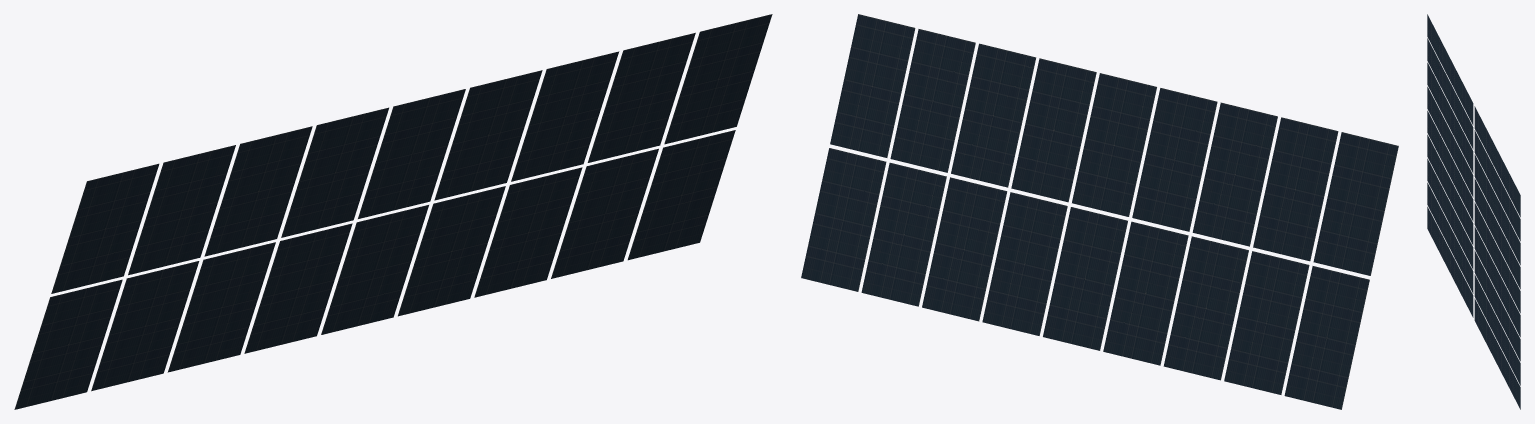
Rendered from half_table_glass.obj.
3 renders of one model, left to right at view 1: azimuth 30°, elevation 25°; view 2: azimuth 150°, elevation 25°; view 3: azimuth 270°, elevation 25°, orthographic. The views are drawn at different scales.
Parts seen in each view (by area): view 1: half_table_glass; view 2: half_table_glass; view 3: half_table_glass.
Boxes of the visible parts, x1=… form: half_table_glass: x1=14, y1=14, x2=772, y2=409; half_table_glass: x1=801, y1=14, x2=1398, y2=409; half_table_glass: x1=1427, y1=14, x2=1520, y2=409.
Bounding box in the file's own units: 10.11 × 3.97 × 1.85.
Materials: 1 (1 with a texture image).
